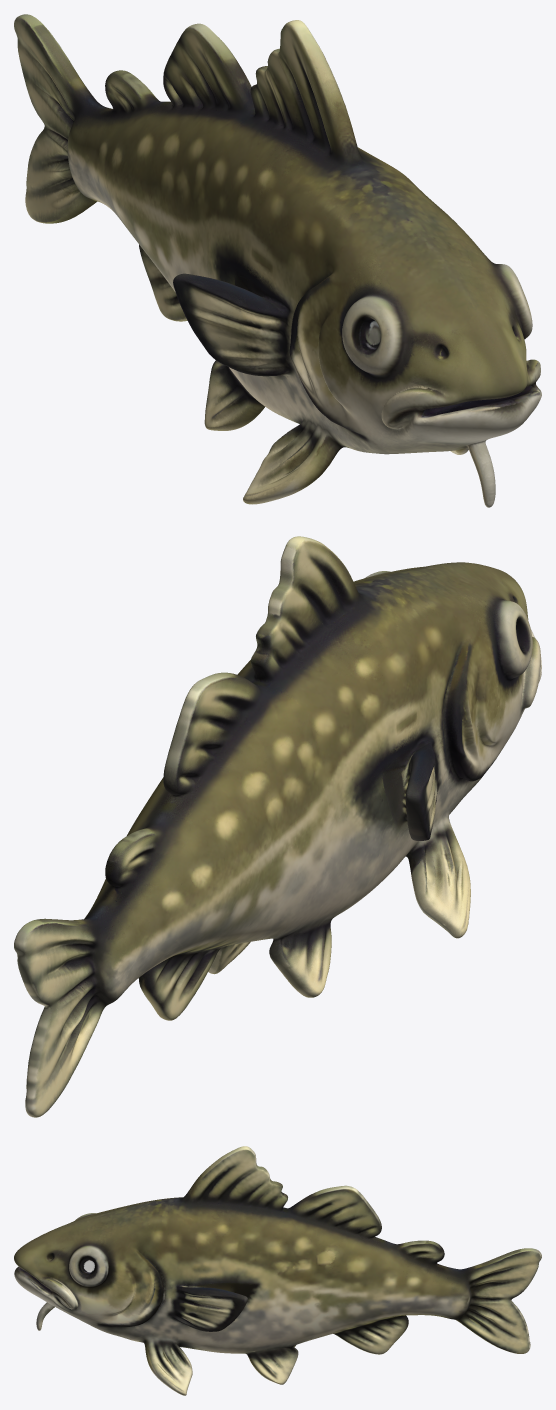
Rendered from Cabillaud.fbx.
3 renders of one model, top to bottom at view 1: azimuth 30°, elevation 25°; view 2: azimuth 150°, elevation 25°; view 3: azimuth 270°, elevation 25°, orthographic. The views are drawn at different scales.
Visible parts, largest first — view 1: Mesh_0; view 2: Mesh_0; view 3: Mesh_0.
Boxes of the visible parts, x1=… form: Mesh_0: x1=14, y1=14, x2=541, y2=507; Mesh_0: x1=14, y1=536, x2=541, y2=1117; Mesh_0: x1=14, y1=1146, x2=541, y2=1395.
Size of the model in its own units: 54.78 by 89.05 by 190.
Materials: 1 (1 with a texture image).
